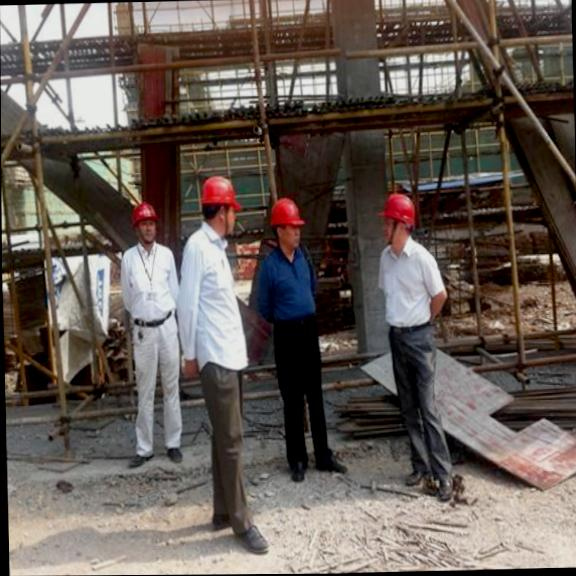no_safety_vest: (179, 233, 249, 381), (375, 239, 436, 335), (118, 232, 172, 332), (254, 245, 315, 318)
